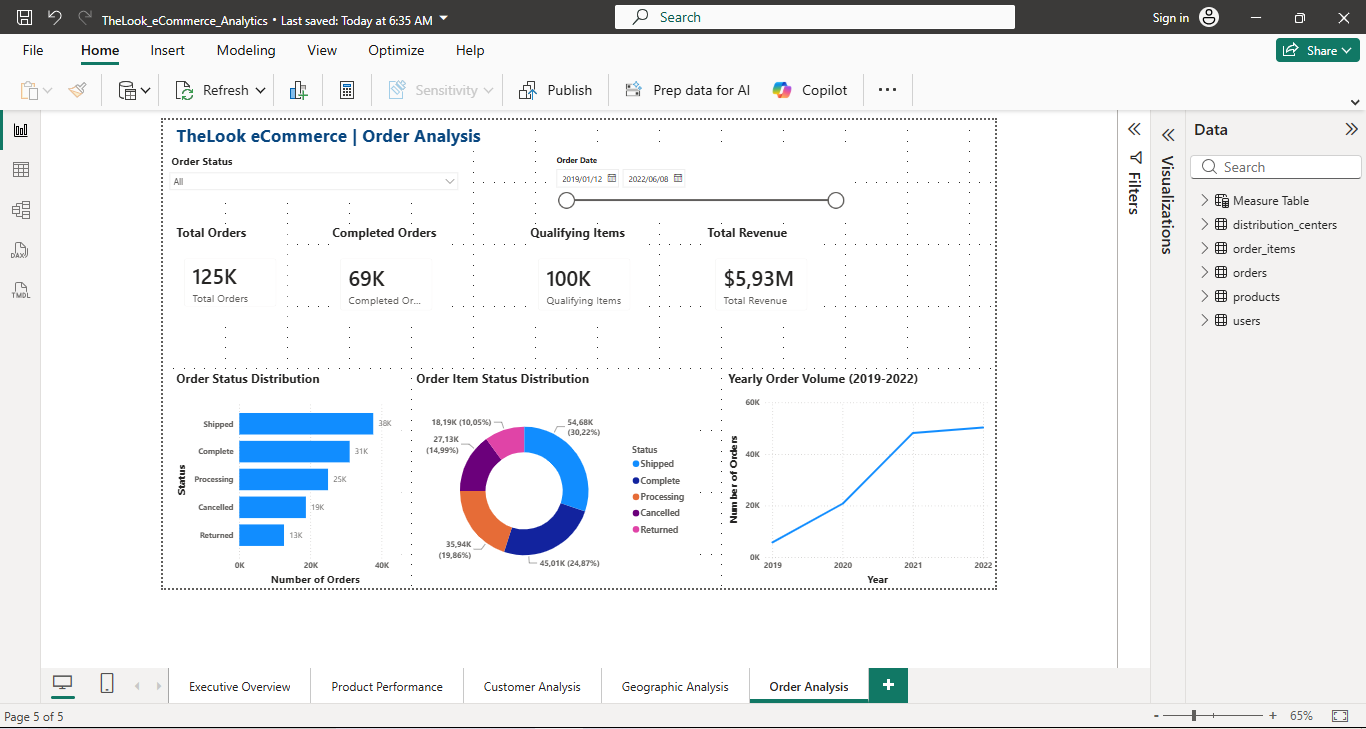

The page's visual inventory and layout, read from the dashboard file:
{"tool":"powerbi","page":{"name":"Order Analysis","canvas":[1280,720],"ordinal":4},"visuals":[{"type":"textbox","box":[16,0,544,48],"z":0},{"type":"cardVisual","title":"Total Orders","fields":{"Data":["Measure Table.Total Orders"]},"box":[16,160,176,144],"z":1000},{"type":"cardVisual","title":"Completed  Orders","fields":{"Data":["Measure Table.Completed Orders"]},"box":[256,160,176,150],"z":2000},{"type":"cardVisual","title":"Qualifying Items","fields":{"Data":["Measure Table.Qualifying Items"]},"box":[560,160,176,150],"z":3000},{"type":"cardVisual","title":"Total Revenue","fields":{"Data":["Measure Table.Total Revenue"]},"box":[832,160,176,150],"z":4000},{"type":"clusteredBarChart","title":"Order Status Distribution","fields":{"Category":["orders.status"],"Y":["CountNonNull(orders.order_id)"]},"box":[16,384,352,336],"z":5000},{"type":"donutChart","title":"Order Item Status Distribution","fields":{"Category":["order_items.status"],"Y":["CountNonNull(order_items.status)"]},"box":[384,384,432,336],"z":6000},{"type":"slicer","fields":{"Values":["orders.status"]},"box":[0,48,464,80],"z":8000},{"type":"slicer","fields":{"Values":["orders.created_at"]},"box":[592,48,464,96],"z":9000},{"type":"lineChart","title":"Yearly Order Volume (2019-2022)","fields":{"Category":["orders.created_at.Variation.Date Hierarchy.Year"],"Y":["CountNonNull(orders.order_id)"]},"box":[864,384,416,336],"z":9001}]}

Visuals, with their boxes on the page's 1280x720 design canvas (x1, y1, x2, y2). These are canvas units, not pixel positions in the 1366x729 screenshot, which may show the page scaled, cropped or inside an application window:
textbox: (x1=16, y1=0, x2=560, y2=48)
"Total Orders" cardVisual: (x1=16, y1=160, x2=192, y2=304)
"Completed  Orders" cardVisual: (x1=256, y1=160, x2=432, y2=310)
"Qualifying Items" cardVisual: (x1=560, y1=160, x2=736, y2=310)
"Total Revenue" cardVisual: (x1=832, y1=160, x2=1008, y2=310)
"Order Status Distribution" clusteredBarChart: (x1=16, y1=384, x2=368, y2=720)
"Order Item Status Distribution" donutChart: (x1=384, y1=384, x2=816, y2=720)
slicer - orders.status: (x1=0, y1=48, x2=464, y2=128)
slicer - orders.created_at: (x1=592, y1=48, x2=1056, y2=144)
"Yearly Order Volume (2019-2022)" lineChart: (x1=864, y1=384, x2=1280, y2=720)
